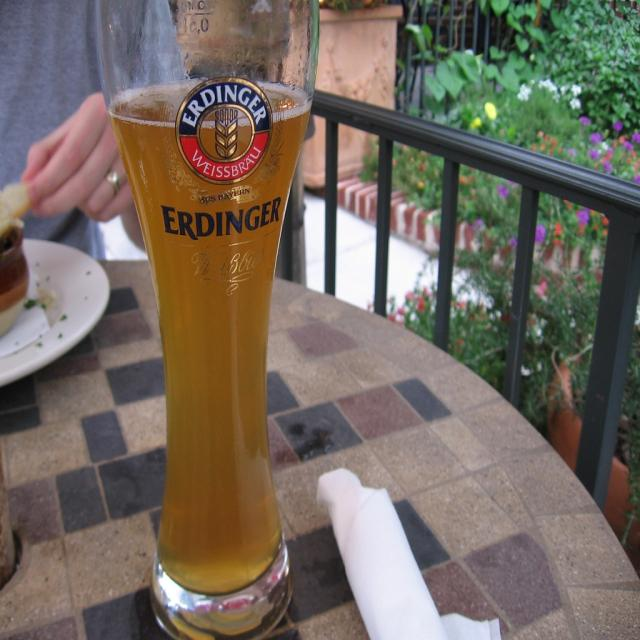erdinger: (159, 68, 289, 249)
